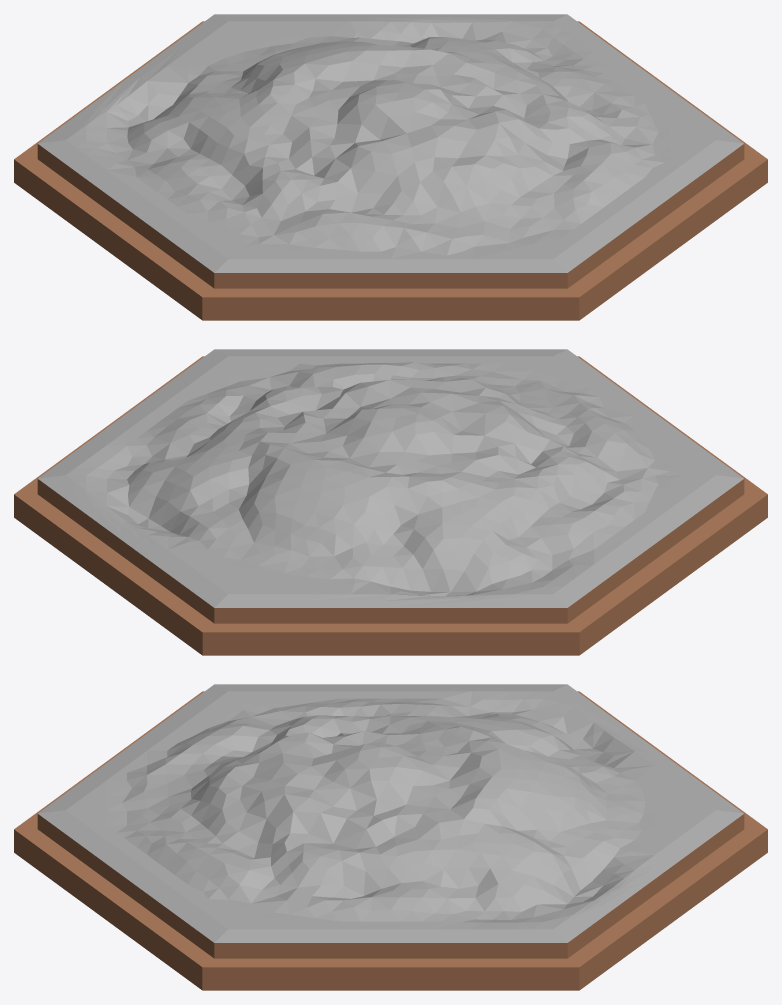
The model's file is HexStein.glb.
3 renders of one model, top to bottom at view 1: azimuth 30°, elevation 25°; view 2: azimuth 150°, elevation 25°; view 3: azimuth 270°, elevation 25°, orthographic.
Visible parts, largest first — view 1: Stone; view 2: Stone; view 3: Stone.
Part boxes in pixels (x1,y1,x2,y2): Stone: (14,14,767,320); Stone: (14,349,767,655); Stone: (14,684,767,990).
Size of the model in its own units: 6.93 by 1.13 by 8.
